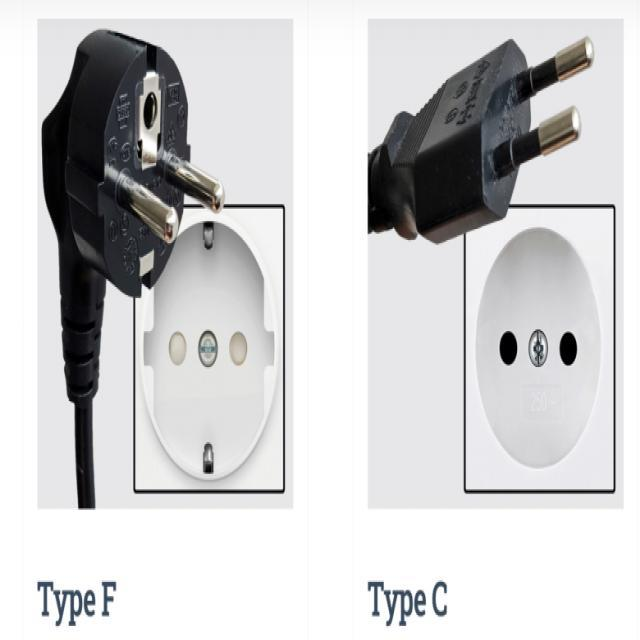typeb: (138, 220, 288, 486), (463, 226, 610, 488)
